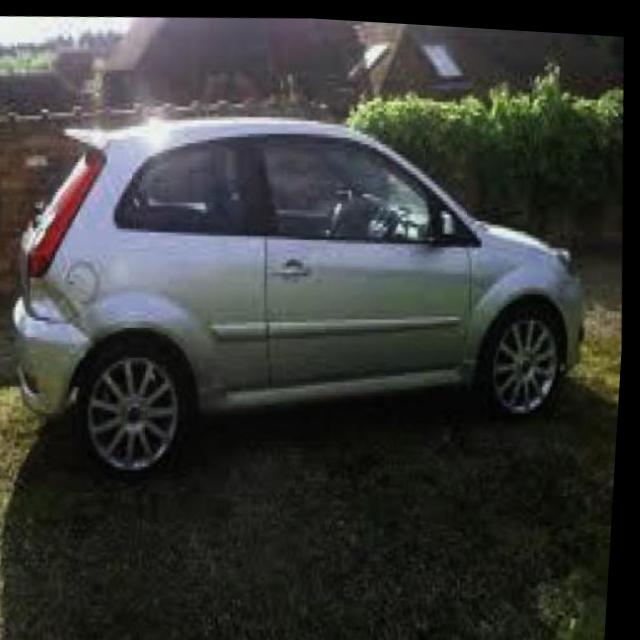Car-Damage: (21, 268, 99, 354)
